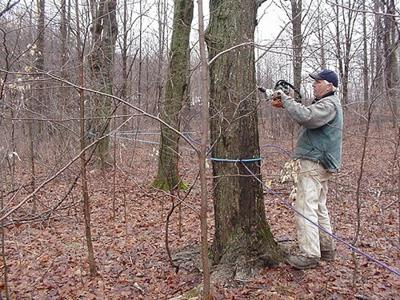person: (258, 67, 345, 270)
